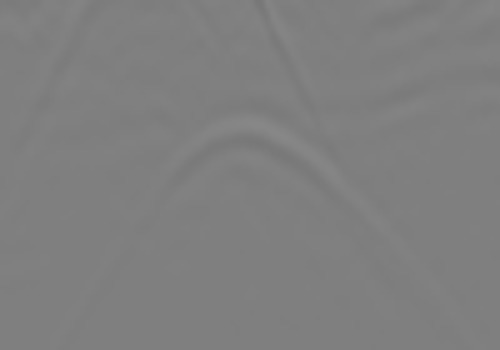hyperbola: (94, 112, 443, 310)
